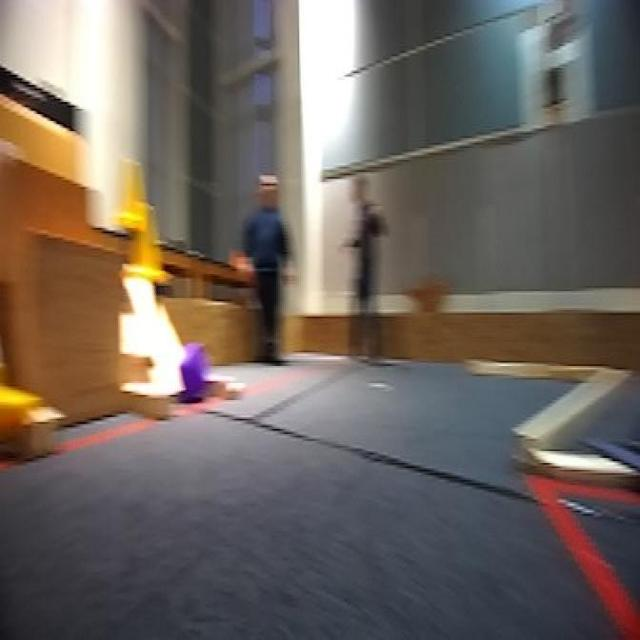frc_cone: (134, 201, 170, 281), (123, 162, 153, 228)
frc_cube: (179, 349, 210, 397)
